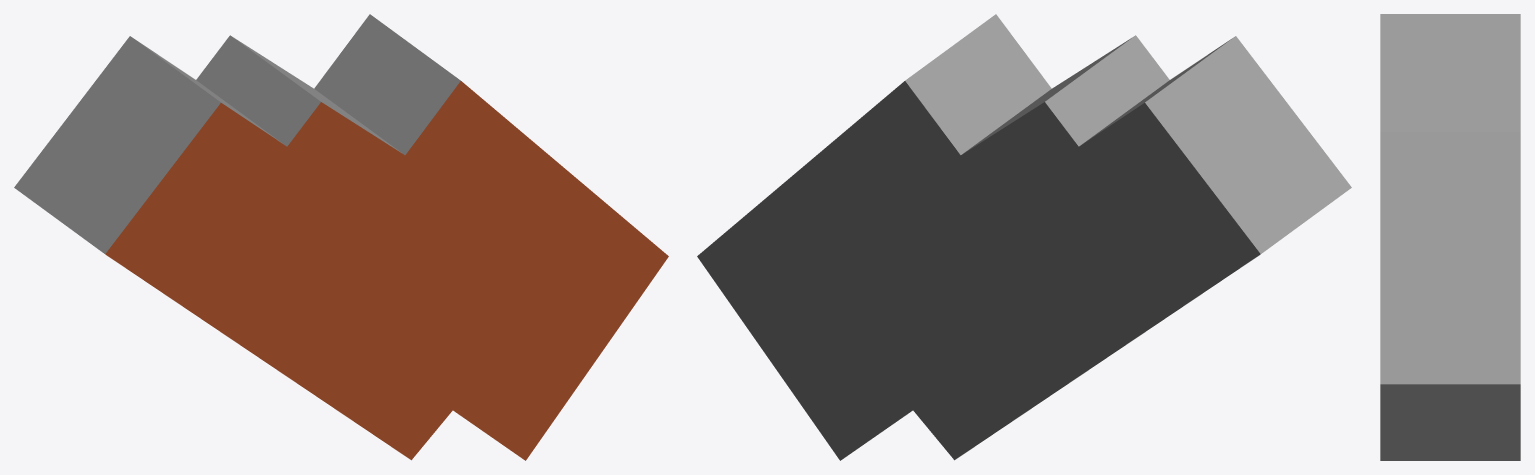
File: construction_6282_assumed_A_Casa_h6m.obj
3 views of the same model, side by side, from view 1: azimuth 30°, elevation 25°; view 2: azimuth 150°, elevation 25°; view 3: azimuth 270°, elevation 25° (orthographic). The views are drawn at different scales.
Visible parts, largest first — view 1: construction_6282_assumed_A_Casa; view 2: construction_6282_assumed_A_Casa; view 3: construction_6282_assumed_A_Casa.
Part boxes in pixels (x1,y1,x2,y2): construction_6282_assumed_A_Casa: (14, 14, 668, 460); construction_6282_assumed_A_Casa: (697, 14, 1351, 460); construction_6282_assumed_A_Casa: (1380, 14, 1520, 460).
Bounding box in the file's own units: 21.44 × 15.72 × 6.
